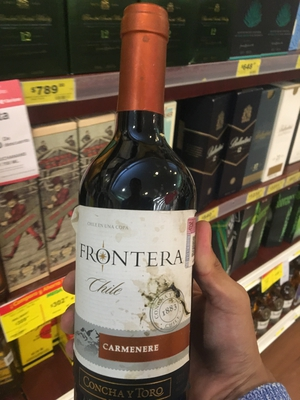frontera carmenere: (73, 10, 204, 400)
